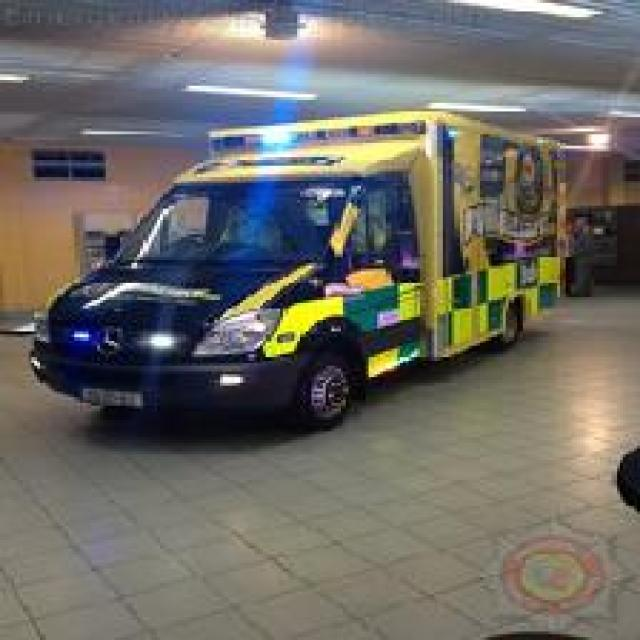Ambulance: (26, 106, 568, 431)
